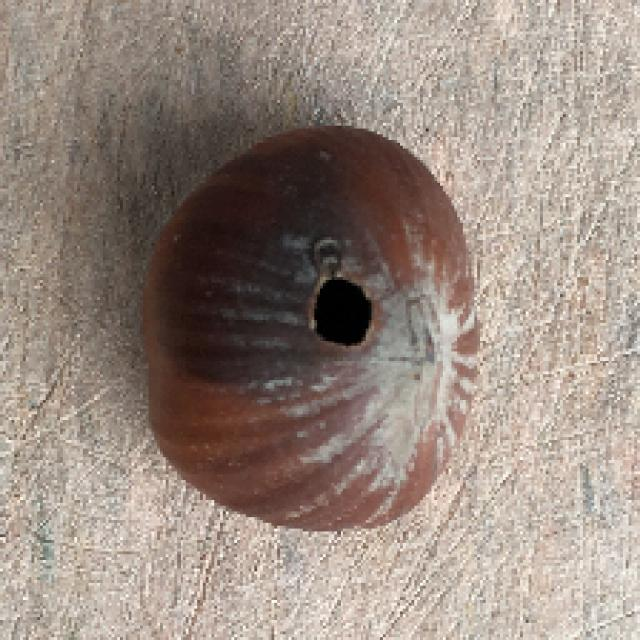damagedHazelnut: (134, 118, 492, 538)
